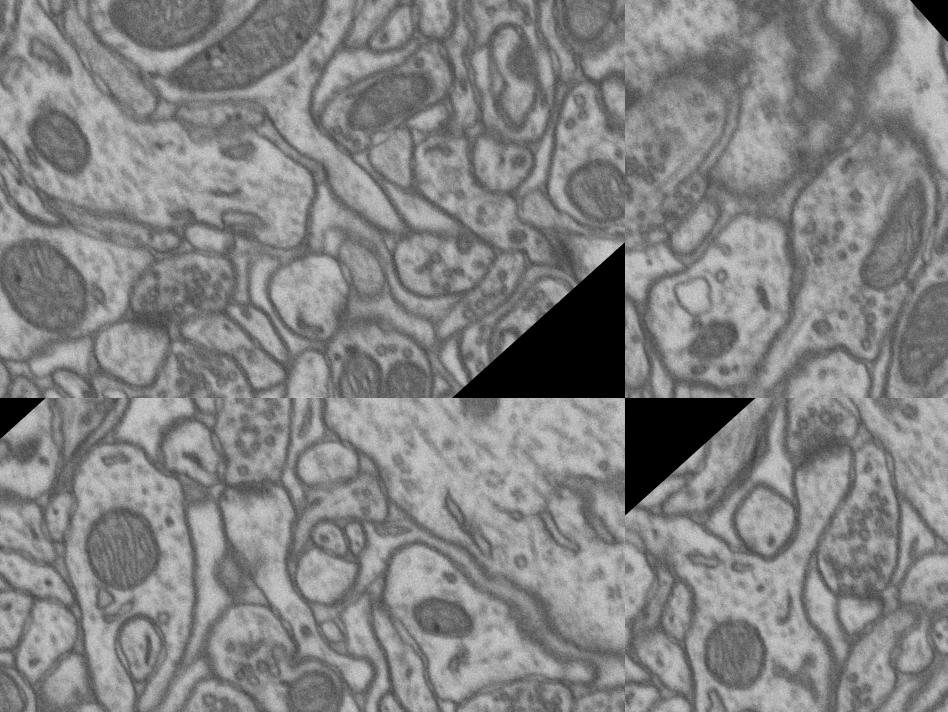mitochondria: (806, 130, 948, 311), (165, 0, 351, 130), (41, 468, 190, 618), (733, 55, 879, 201), (673, 590, 801, 712), (0, 219, 104, 351), (858, 269, 948, 398), (94, 0, 239, 80), (337, 50, 445, 155), (816, 0, 930, 99), (402, 572, 503, 674), (12, 92, 108, 189), (553, 142, 625, 240), (680, 286, 764, 370), (254, 648, 354, 712), (318, 341, 404, 398), (357, 348, 445, 398), (536, 0, 625, 46), (0, 649, 48, 712)
